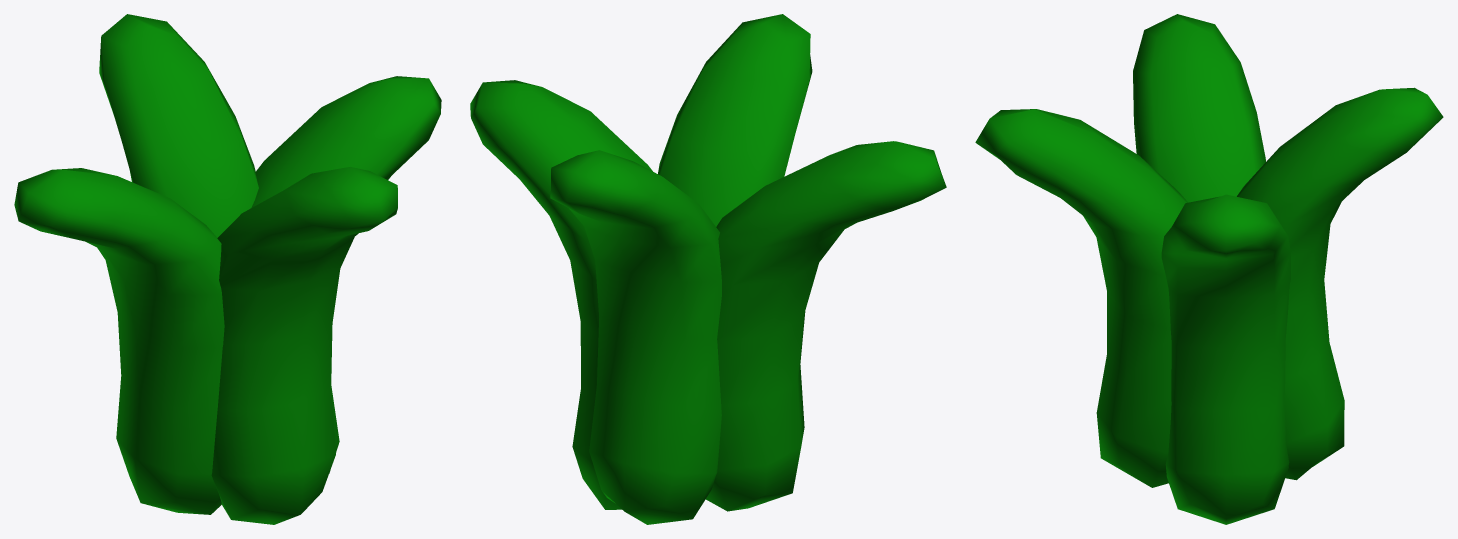
Rendered from gramado.fbx.
3 views of the same model, side by side, from view 1: azimuth 30°, elevation 25°; view 2: azimuth 150°, elevation 25°; view 3: azimuth 270°, elevation 25° (orthographic). The views are drawn at different scales.
Visible parts, largest first — view 1: polySurface61; view 2: polySurface61; view 3: polySurface61.
Part boxes in pixels (<box>): polySurface61: <box>14,14,441,524</box>; polySurface61: <box>470,14,946,524</box>; polySurface61: <box>975,14,1443,524</box>.
Size of the model in its own units: 1.3 by 1.18 by 1.22.
